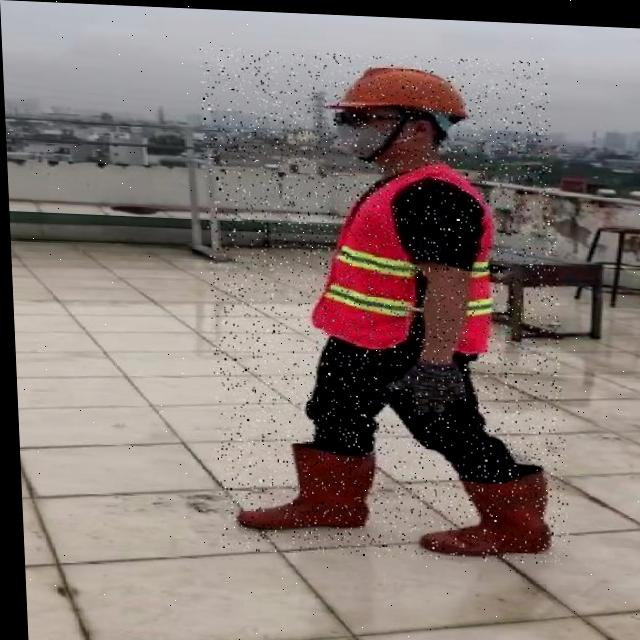Gloves: (382, 351, 473, 415)
Helmet: (320, 59, 468, 122)
Safety-Boot: (228, 434, 374, 531), (411, 455, 547, 554)
Safety-Vest: (302, 154, 497, 360)
